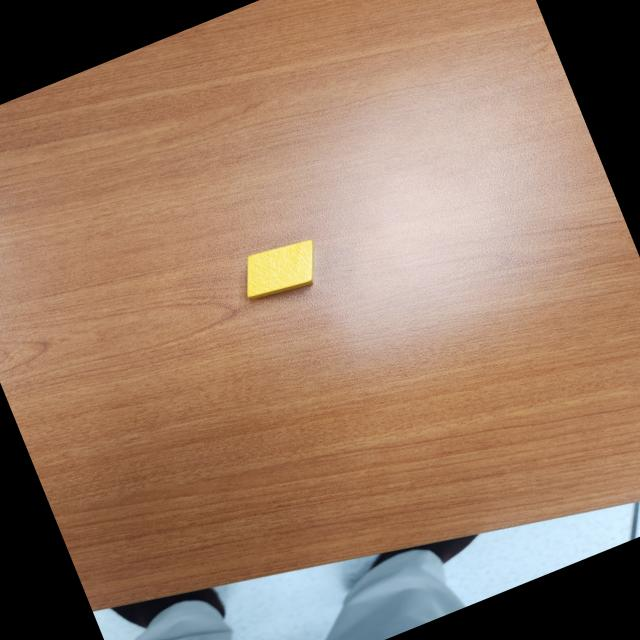yellow: (230, 232, 329, 312)
